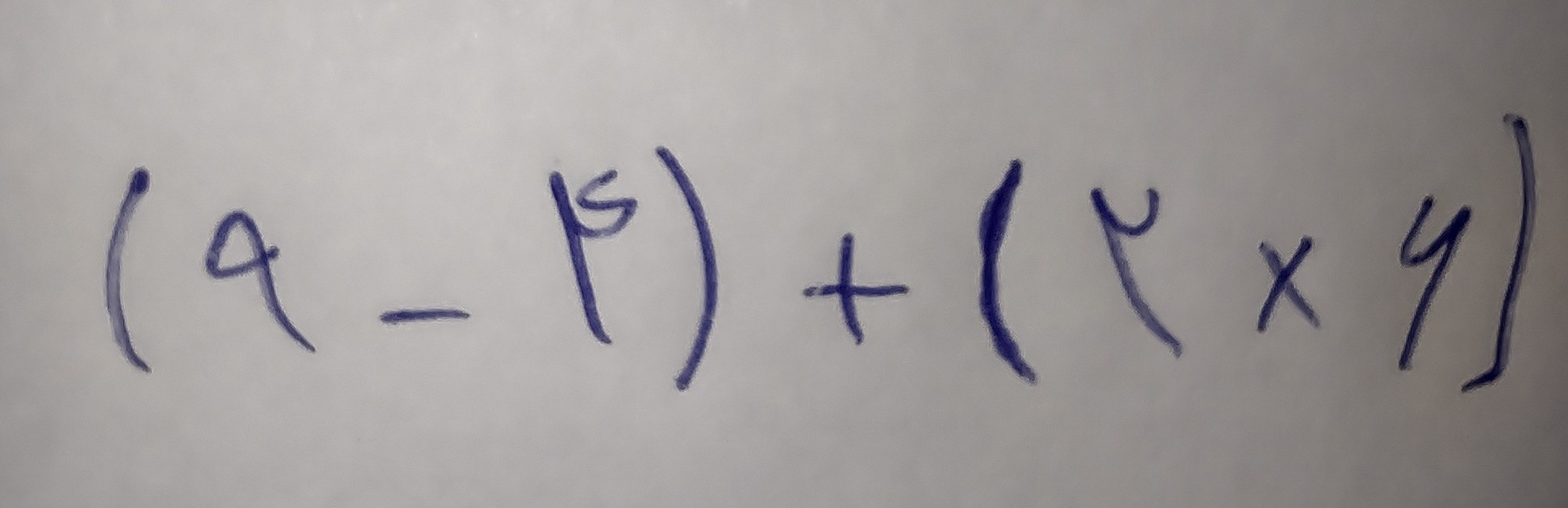character: (1459, 112, 1541, 412), (204, 210, 318, 355), (655, 147, 720, 399), (1089, 186, 1181, 362), (549, 170, 638, 349), (976, 158, 1042, 387), (1397, 194, 1473, 371), (803, 234, 913, 348), (103, 169, 157, 376), (1258, 236, 1323, 338), (380, 308, 476, 328)
